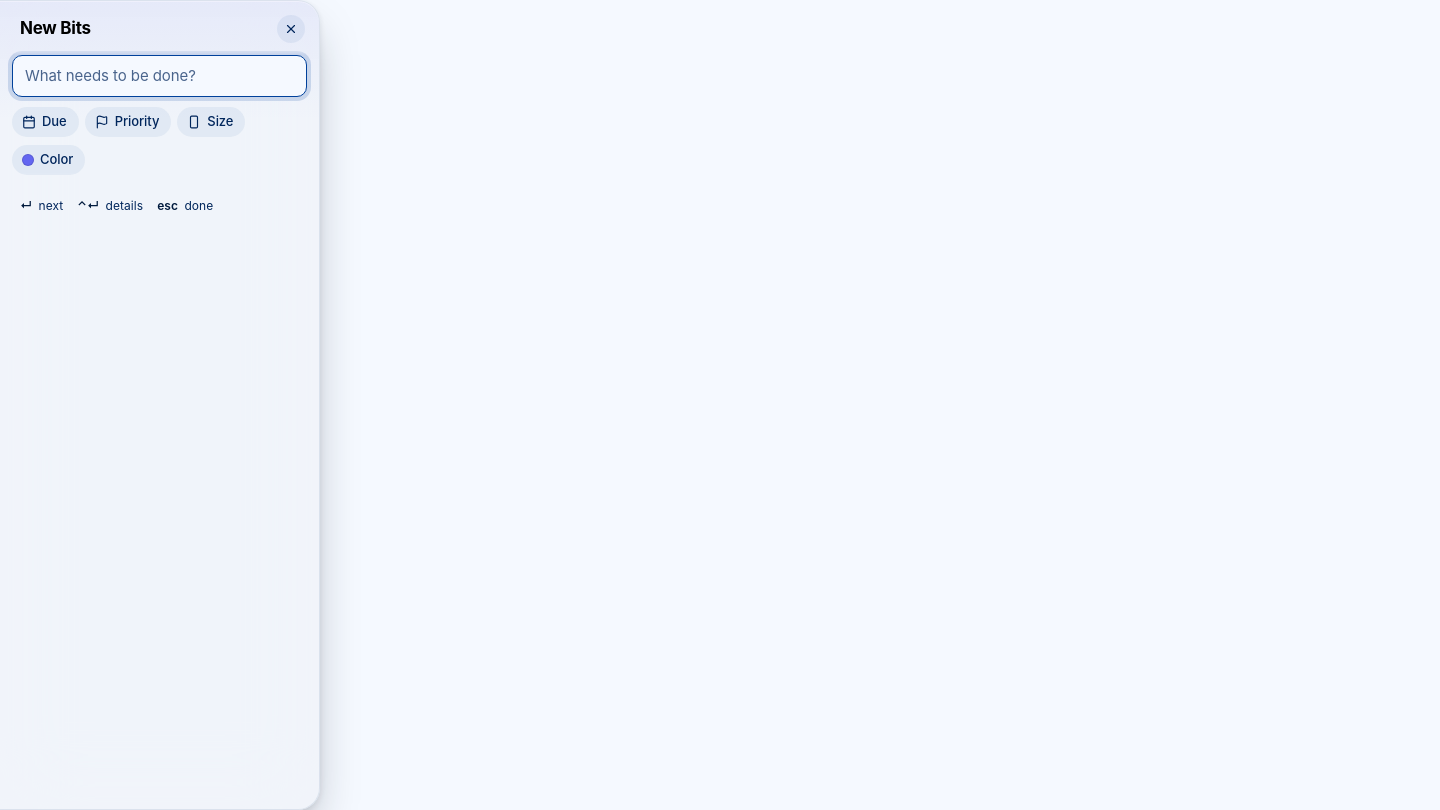
Test: LBitSheet › öffnet per Klick auf eine Zeile der Serie die Detail-Ansicht, ‹ New Bits führt zurück
Type "A" into the field with placeholder "What needs to be done?" at (160,76), box top-left (13, 56), bottom-right (306, 96)
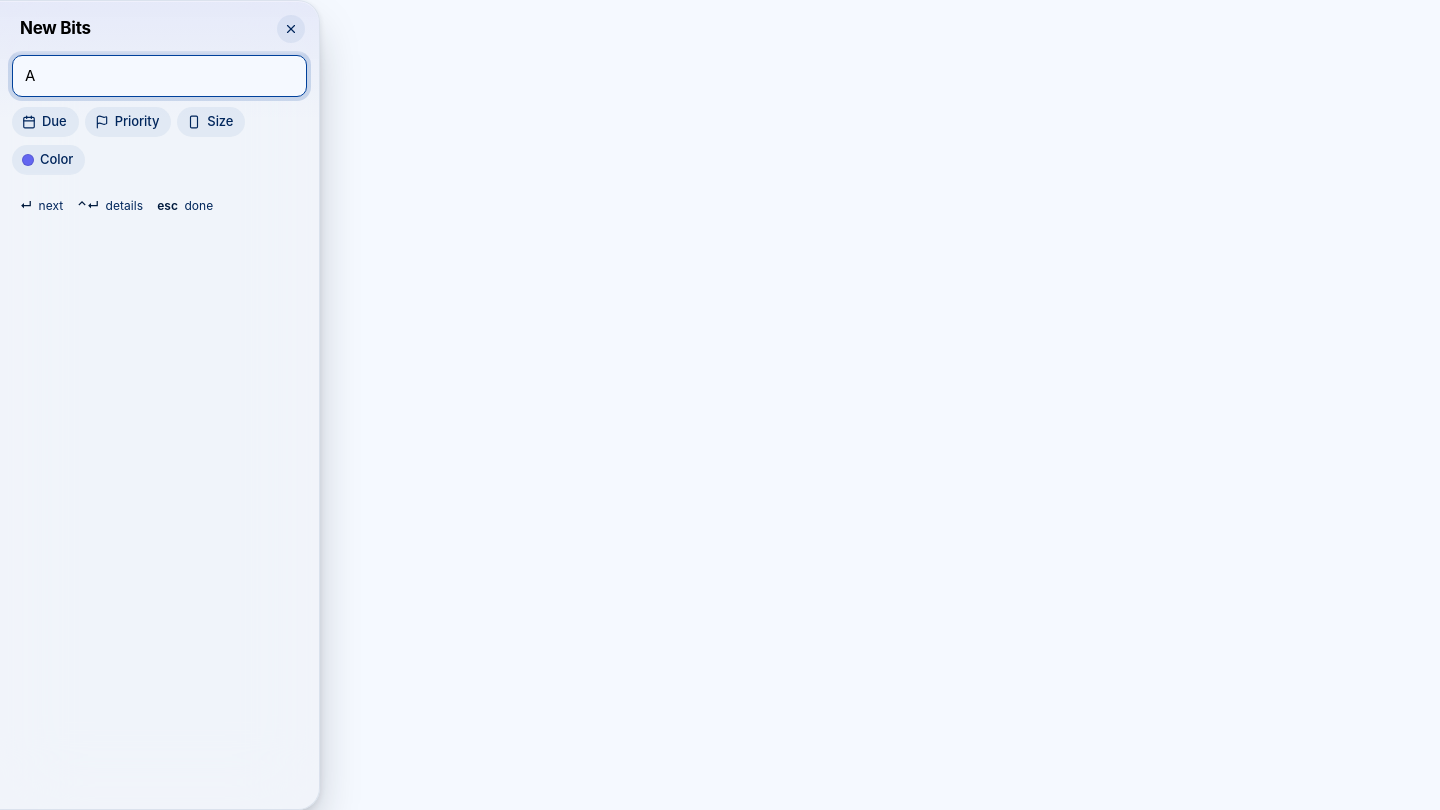
Press Enter in the field named "New bit title", box top-left (13, 56), bottom-right (306, 96)
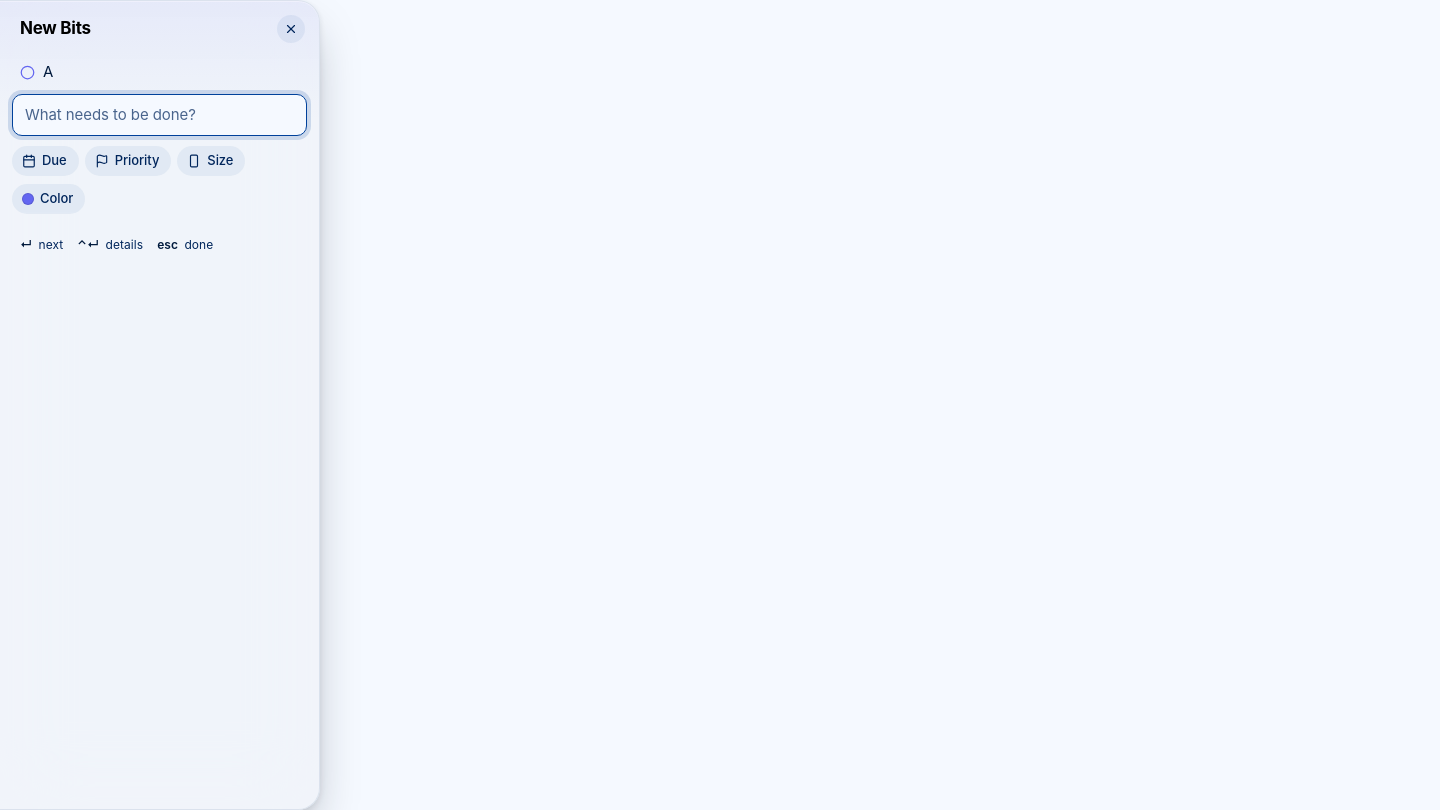
Type "B" into the field with placeholder "What needs to be done?" at (160,114), box top-left (13, 94), bottom-right (306, 134)
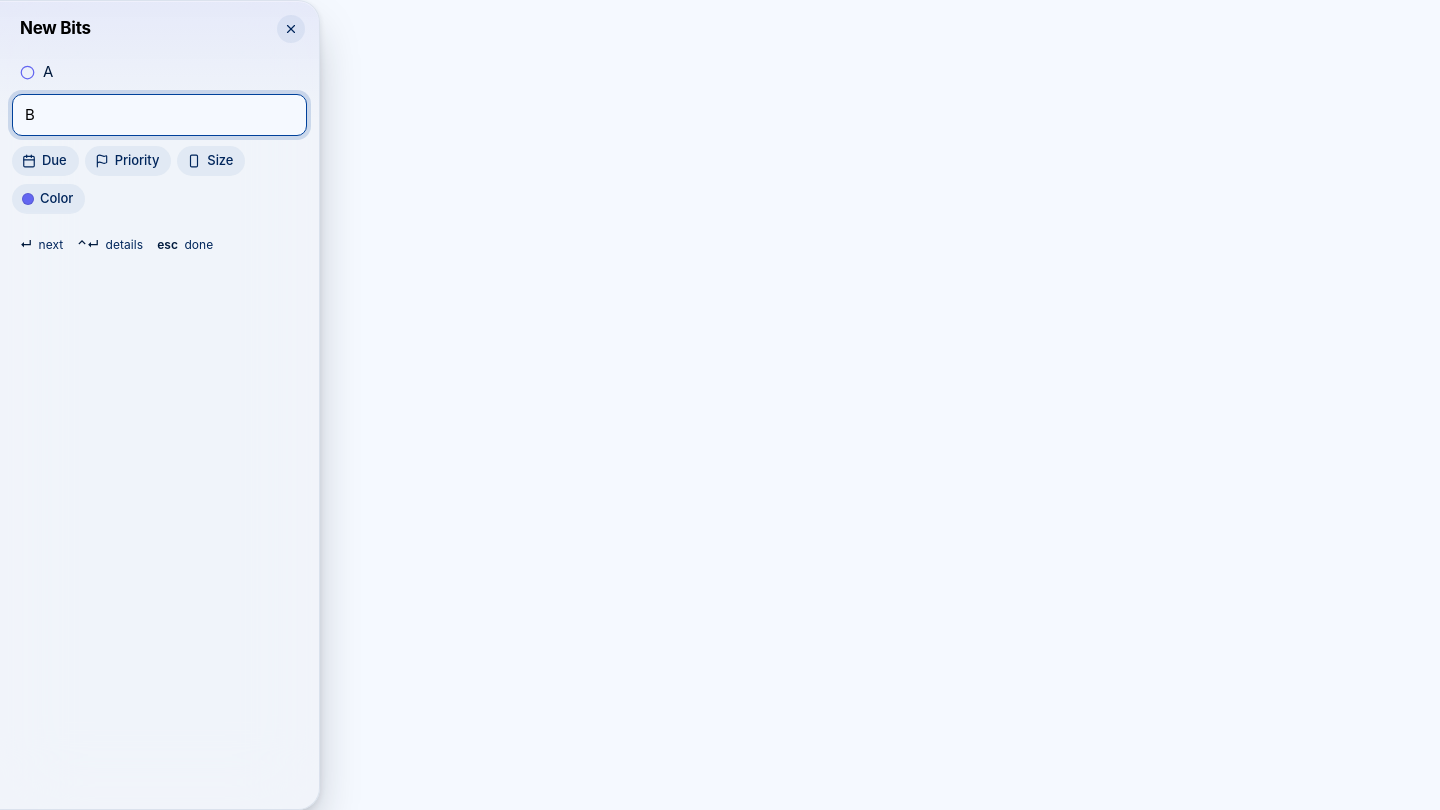
Press Enter in the field named "New bit title", box top-left (13, 94), bottom-right (306, 134)
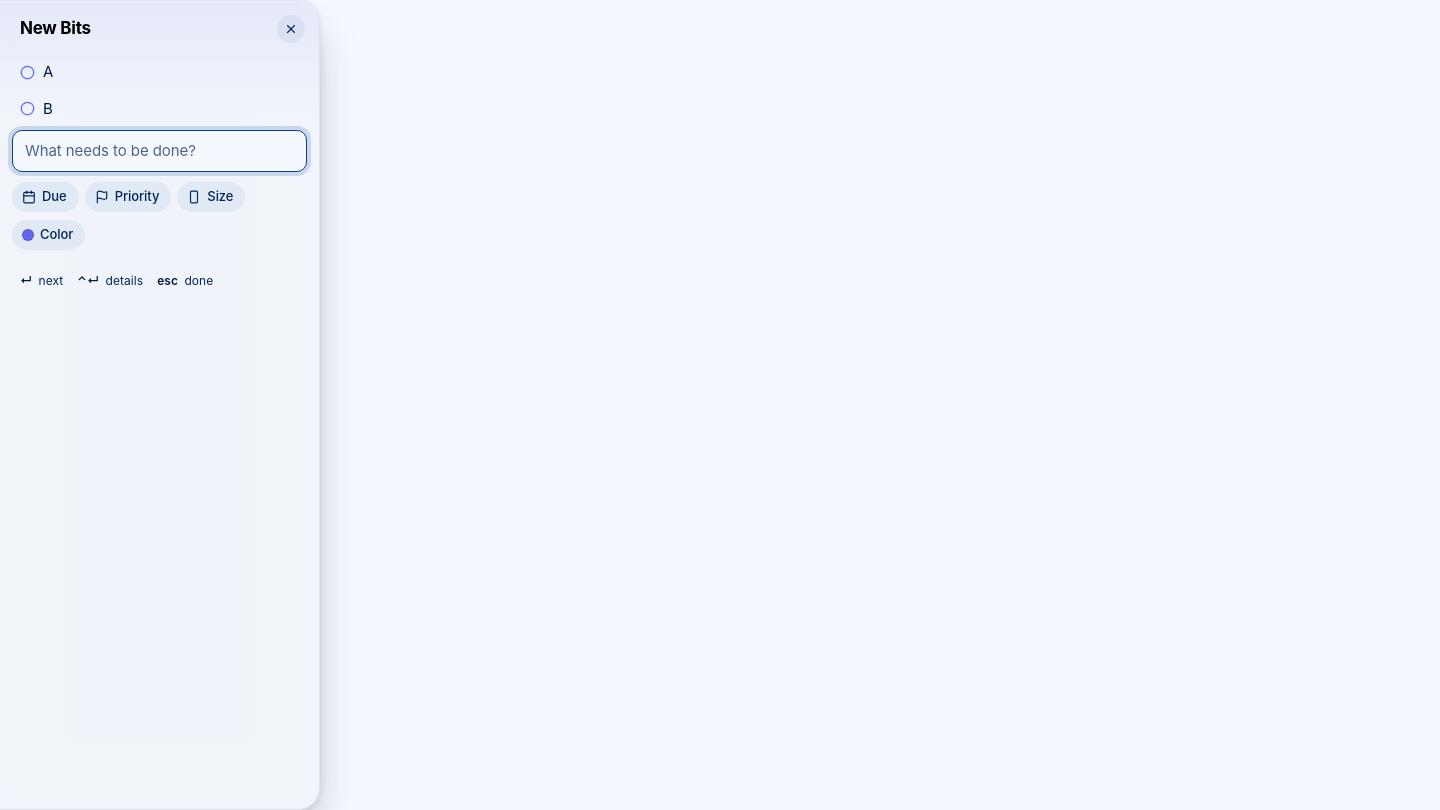
Expected: the elements with class "capture__row" read "A", "B", in this order
Click the button with class "capture__row" showing "A" at (28,72), box top-left (12, 55), bottom-right (307, 90)
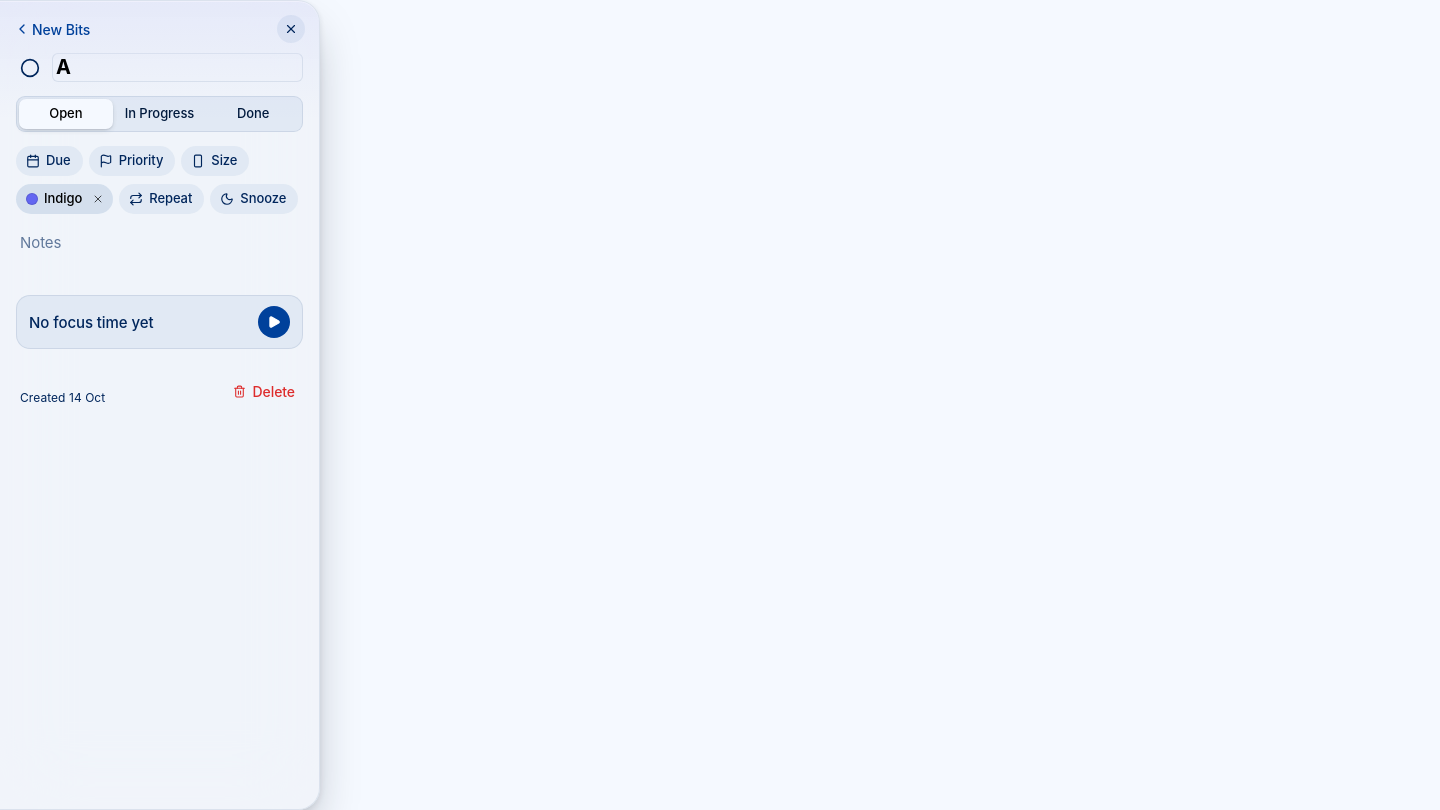
Click the button with class "detail__back" at (55,29), box top-left (10, 15), bottom-right (100, 43)
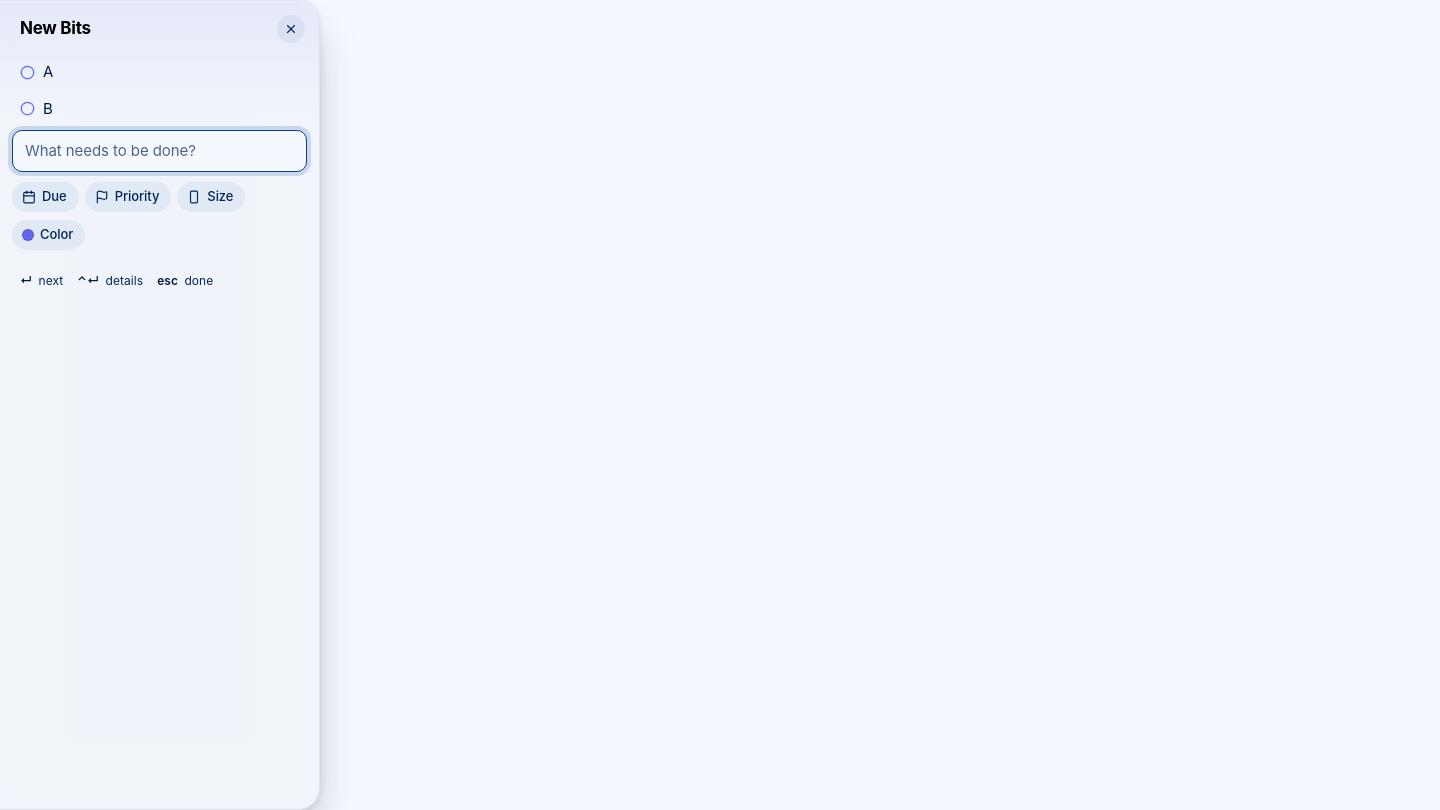
Expected: the number of buttons with class "capture__row" is 2, top-left (12, 55), bottom-right (307, 90); top-left (12, 92), bottom-right (307, 126)
